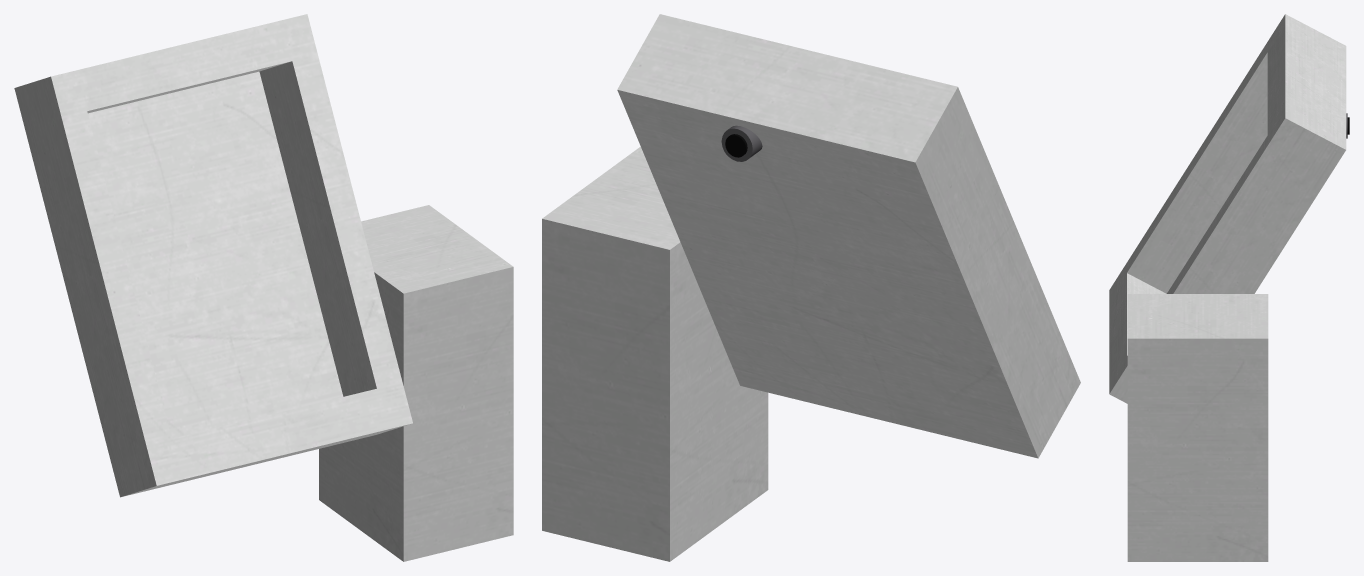
Rendered from vitalscanner.obj.
3 renders of one model, left to right at view 1: azimuth 30°, elevation 25°; view 2: azimuth 150°, elevation 25°; view 3: azimuth 270°, elevation 25°, orthographic. The views are drawn at different scales.
Parts seen in each view (by area): view 1: Union1, Handle1; view 2: Union1, Handle1, Scannerhole1; view 3: Handle1, Union1.
Boxes of the visible parts, <box> form: Union1: <box>14,14,412,497</box>; Handle1: <box>319,205,513,561</box>; Union1: <box>617,14,1080,458</box>; Handle1: <box>542,147,768,561</box>; Scannerhole1: <box>721,125,762,161</box>; Handle1: <box>1127,294,1268,561</box>; Union1: <box>1109,14,1346,403</box>.
Size of the model in its own units: 1.77 by 2.2 by 1.2.
3 materials, 1 textured.
